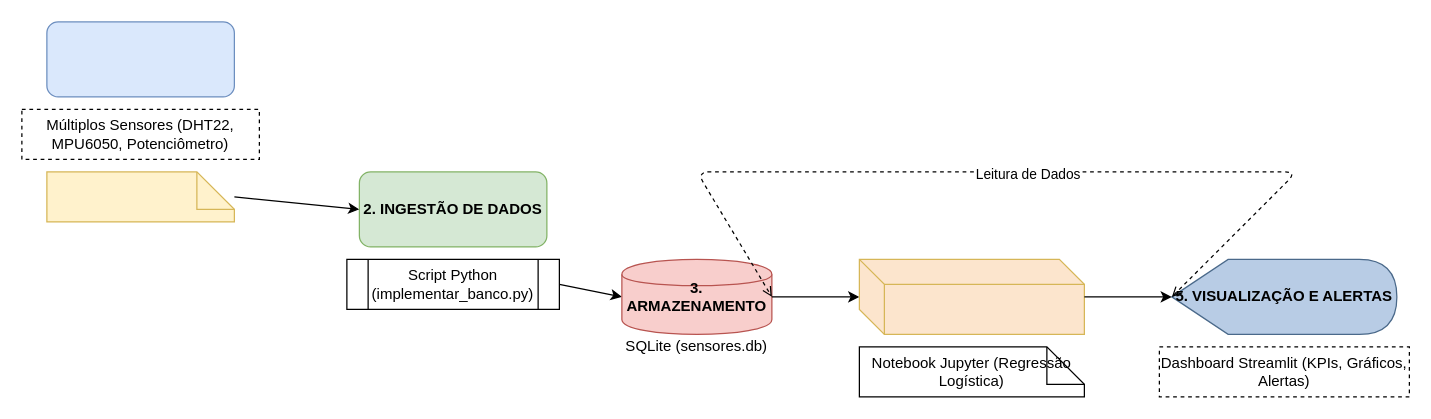
Image size: 1431x419. Some labels were removed from this diagram. Here are the shapes that lost their labels. From the top down, the box of each, then its label:
(46, 21, 234, 97): 1. FONTE DE DADOS (Wokwi)
(46, 171, 234, 222): Dados Gerados (CSV)
(858, 258, 1084, 334): 4. MODELO DE MACHINE LEARNING
